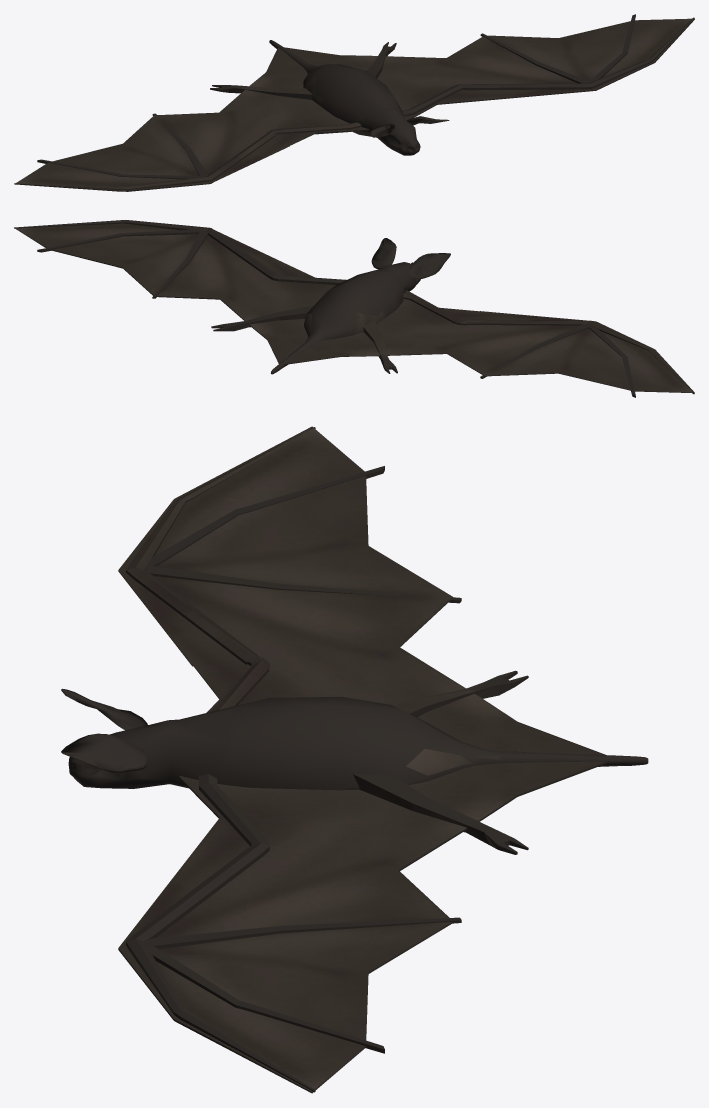
The model's file is bat_parts.FBX.
3 renders of one model, top to bottom at view 1: azimuth 30°, elevation 25°; view 2: azimuth 150°, elevation 25°; view 3: azimuth 270°, elevation 25°, orthographic. The views are drawn at different scales.
Visible parts, largest first — view 1: Mesh03, Object01, Object02, Object03; view 2: Mesh03, Object01, Object02, Object03; view 3: Mesh03, Object01, Object02, Object03.
Part boxes in pixels (<box>): Mesh03: <box>284,33,595,155</box>; Object01: <box>14,112,289,191</box>; Object02: <box>210,40,401,145</box>; Object03: <box>457,14,694,90</box>; Mesh03: <box>152,230,450,363</box>; Object01: <box>447,311,694,397</box>; Object02: <box>271,271,481,374</box>; Object03: <box>14,220,219,299</box>; Mesh03: <box>61,688,606,949</box>; Object01: <box>118,426,461,666</box>; Object02: <box>171,646,648,790</box>; Object03: <box>118,871,452,1093</box>.
Size of the model in its own units: 104 by 38.69 by 7.39.
Materials: 1 (1 with a texture image).
